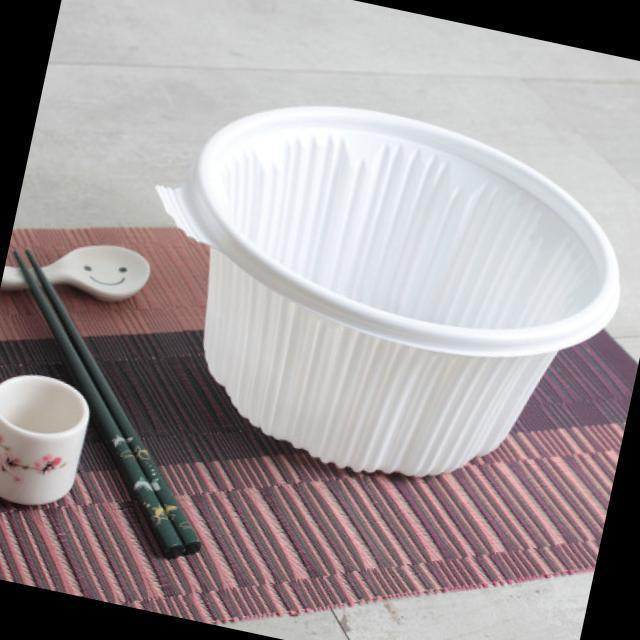disposable: (147, 92, 635, 492)
